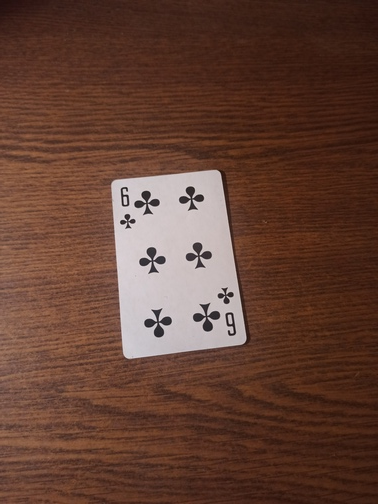sixclubs: (109, 170, 248, 358)
